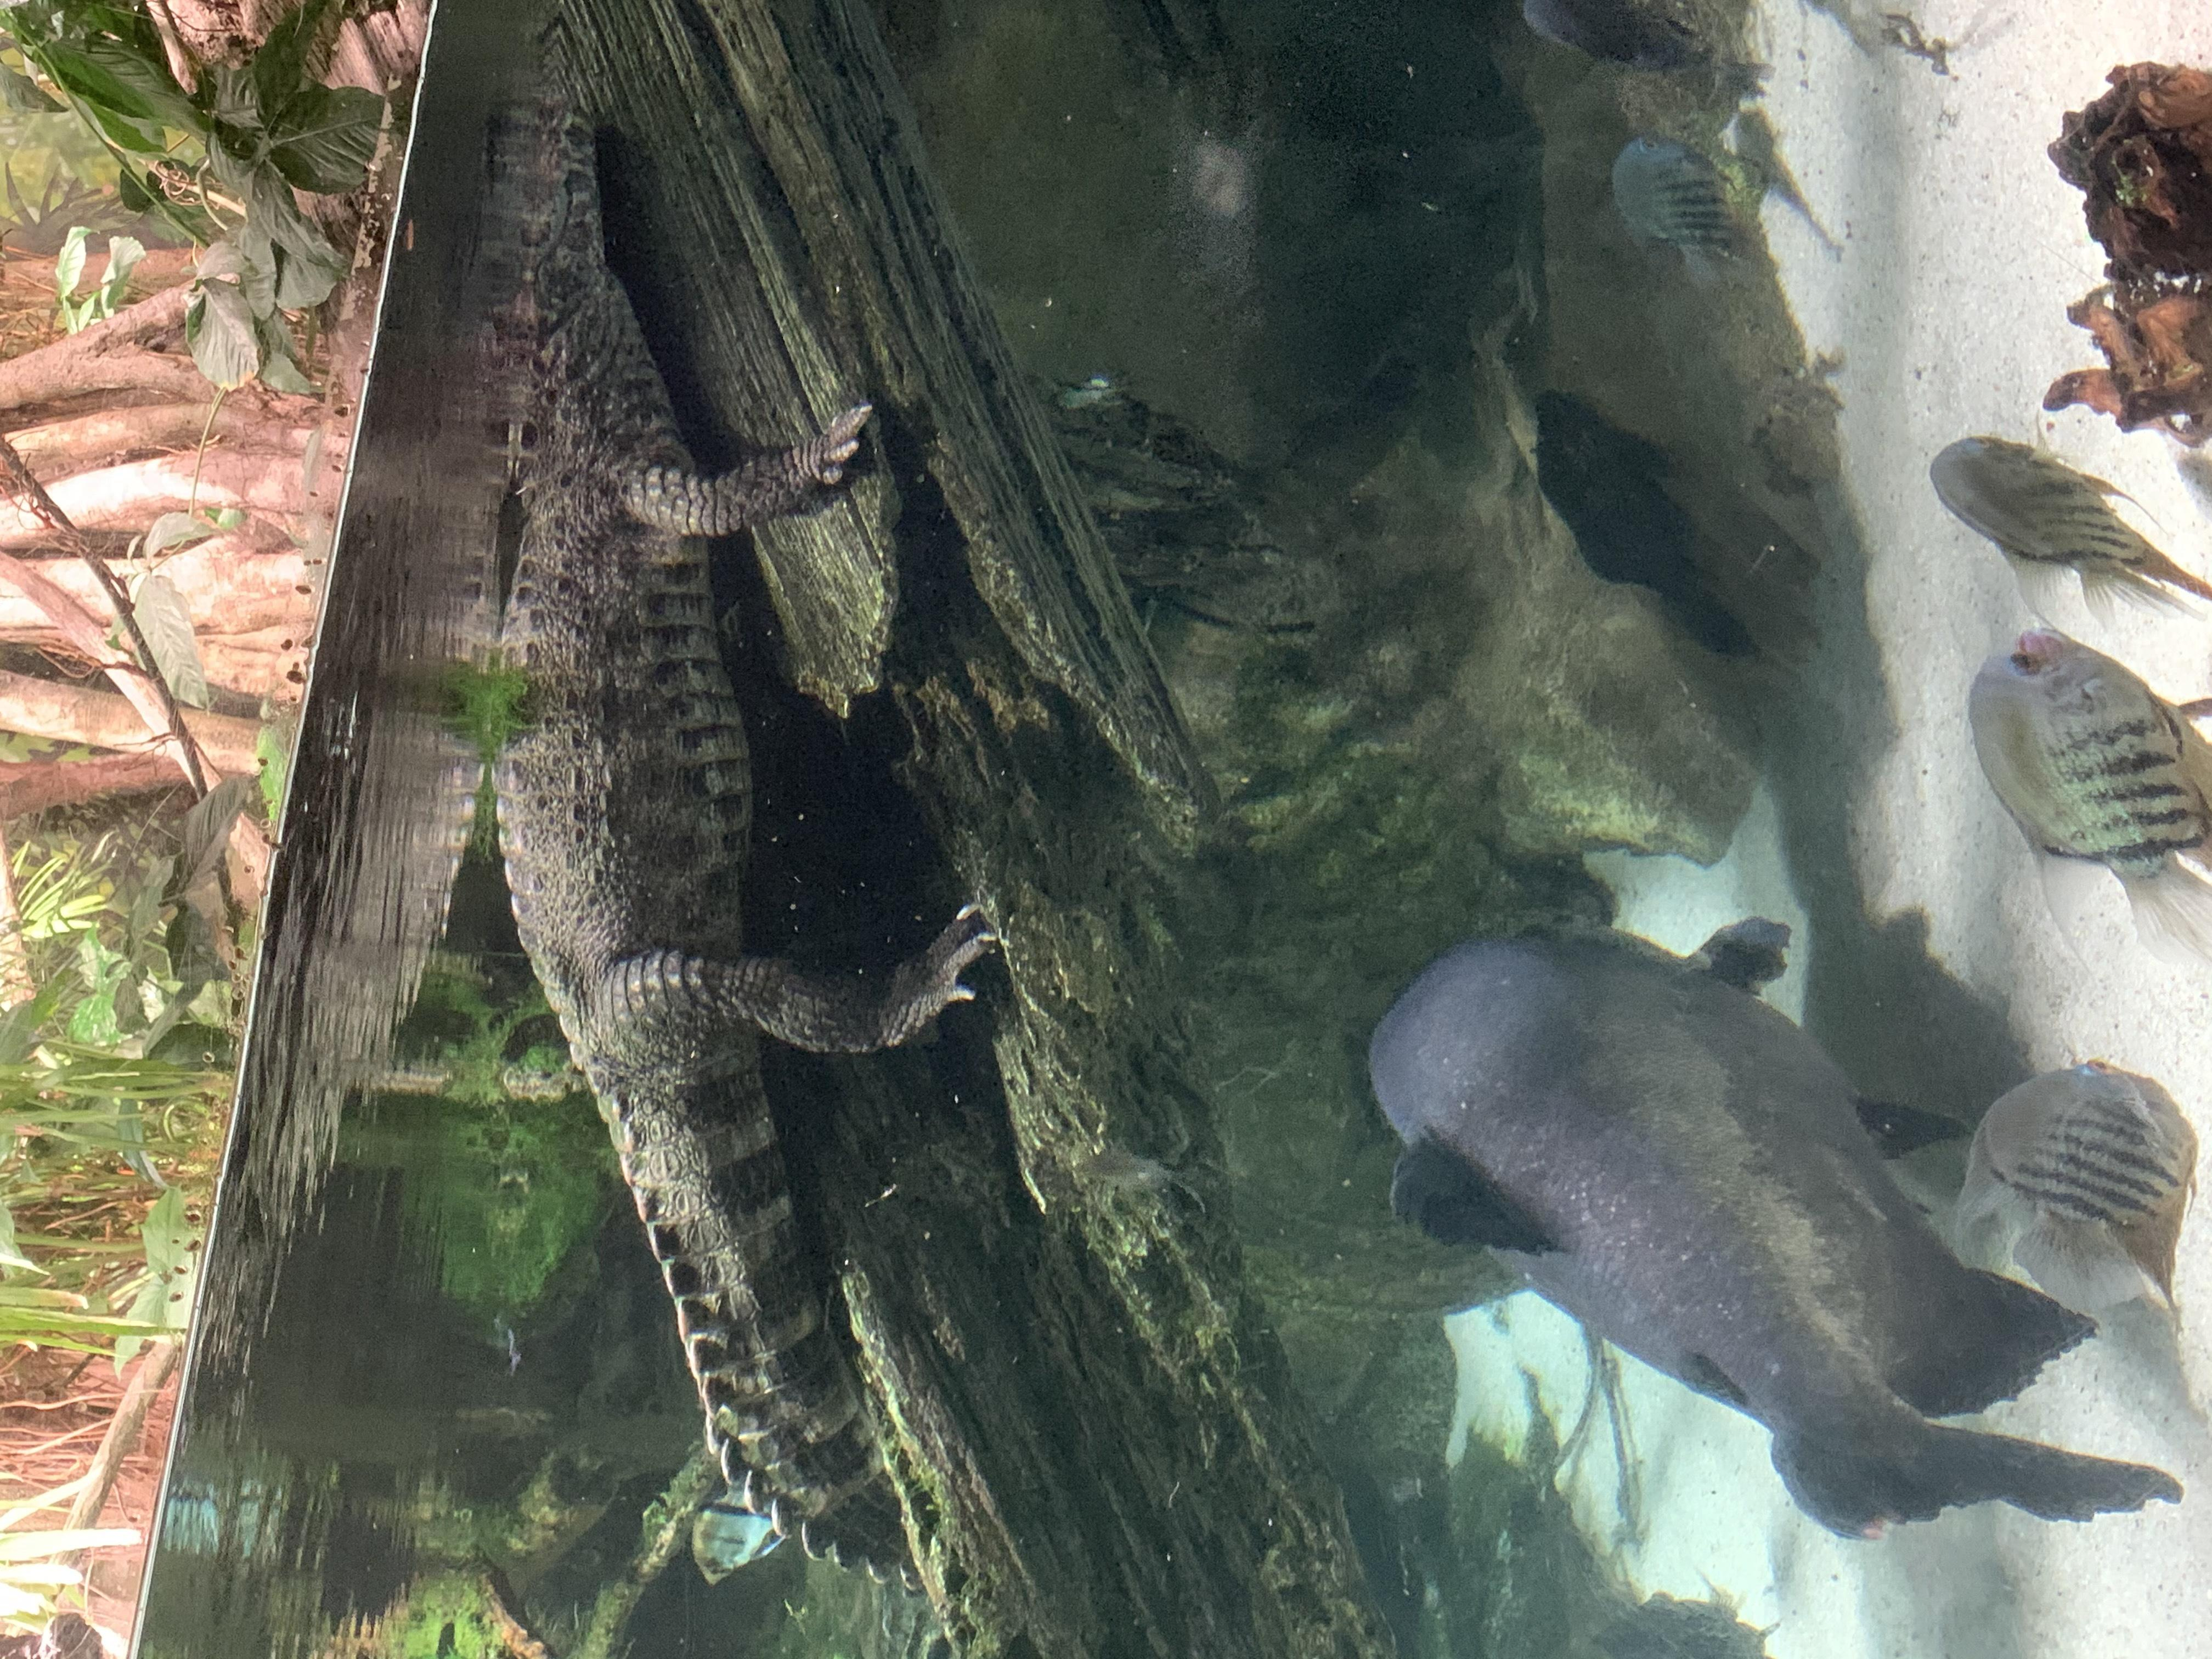fish: (1353, 896, 2196, 1551), (1959, 626, 2212, 958), (1947, 1042, 2207, 1316), (1923, 423, 2212, 633), (1522, 2, 1764, 131), (1604, 131, 1771, 296), (693, 1473, 782, 1591)
